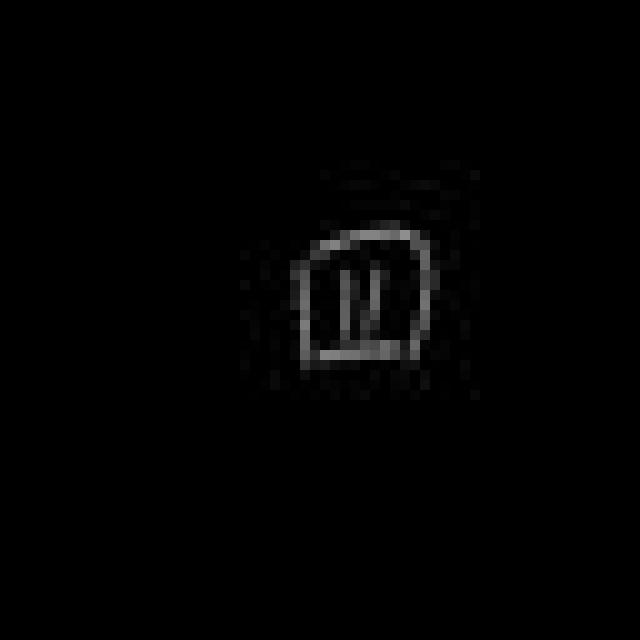4 -four-: (280, 218, 445, 382)
